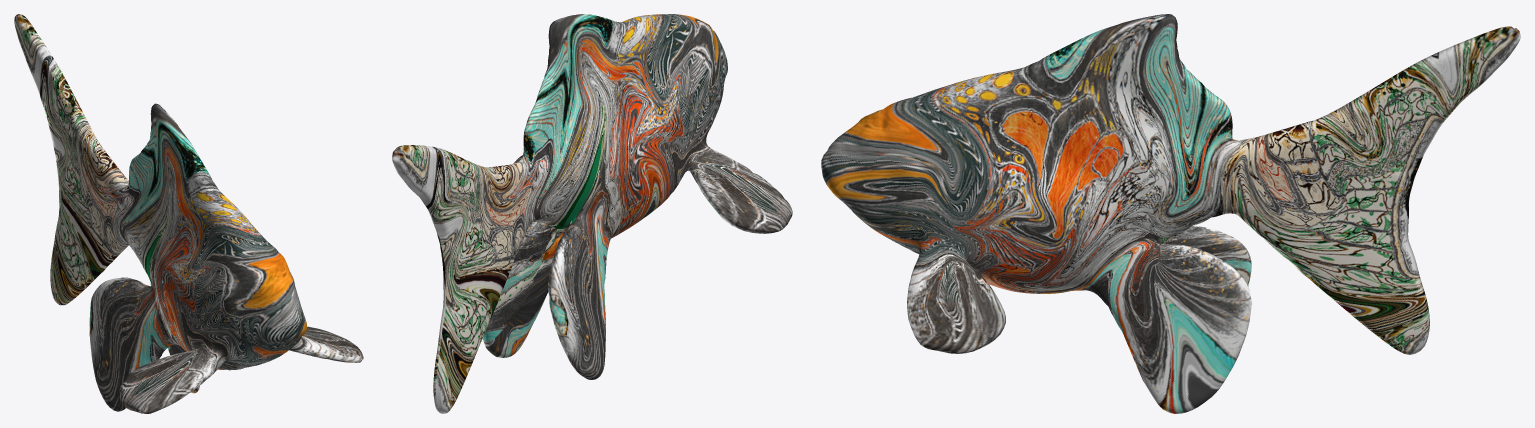
File: goldie-swirl-small.glb
3 views of the same model, side by side, from view 1: azimuth 30°, elevation 25°; view 2: azimuth 150°, elevation 25°; view 3: azimuth 270°, elevation 25° (orthographic). The views are drawn at different scales.
Visible parts, largest first — view 1: Goldfish_STTP2QE; view 2: Goldfish_STTP2QE; view 3: Goldfish_STTP2QE.
Part boxes in pixels (box(x1,y1,x2,y2)): Goldfish_STTP2QE: box(14, 14, 363, 413); Goldfish_STTP2QE: box(392, 14, 792, 413); Goldfish_STTP2QE: box(821, 14, 1520, 413).
Bounding box in the file's own units: 25.38 × 31.2 × 52.65.
1 material, 1 textured.
